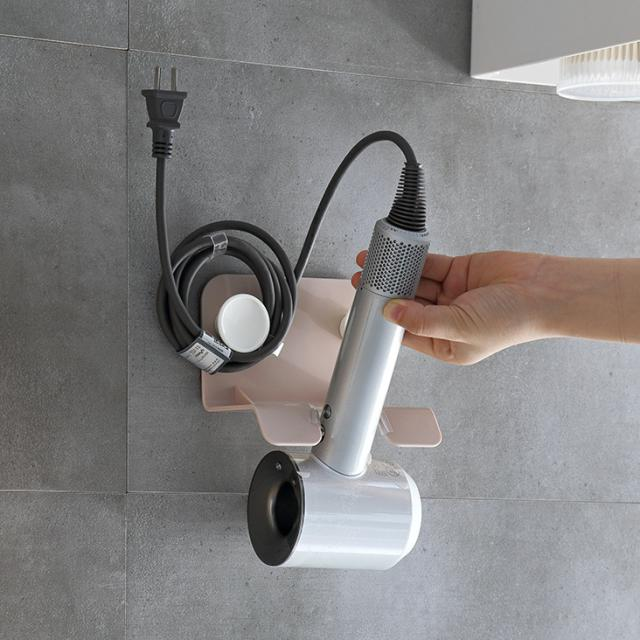dryer: (203, 90, 500, 598)
